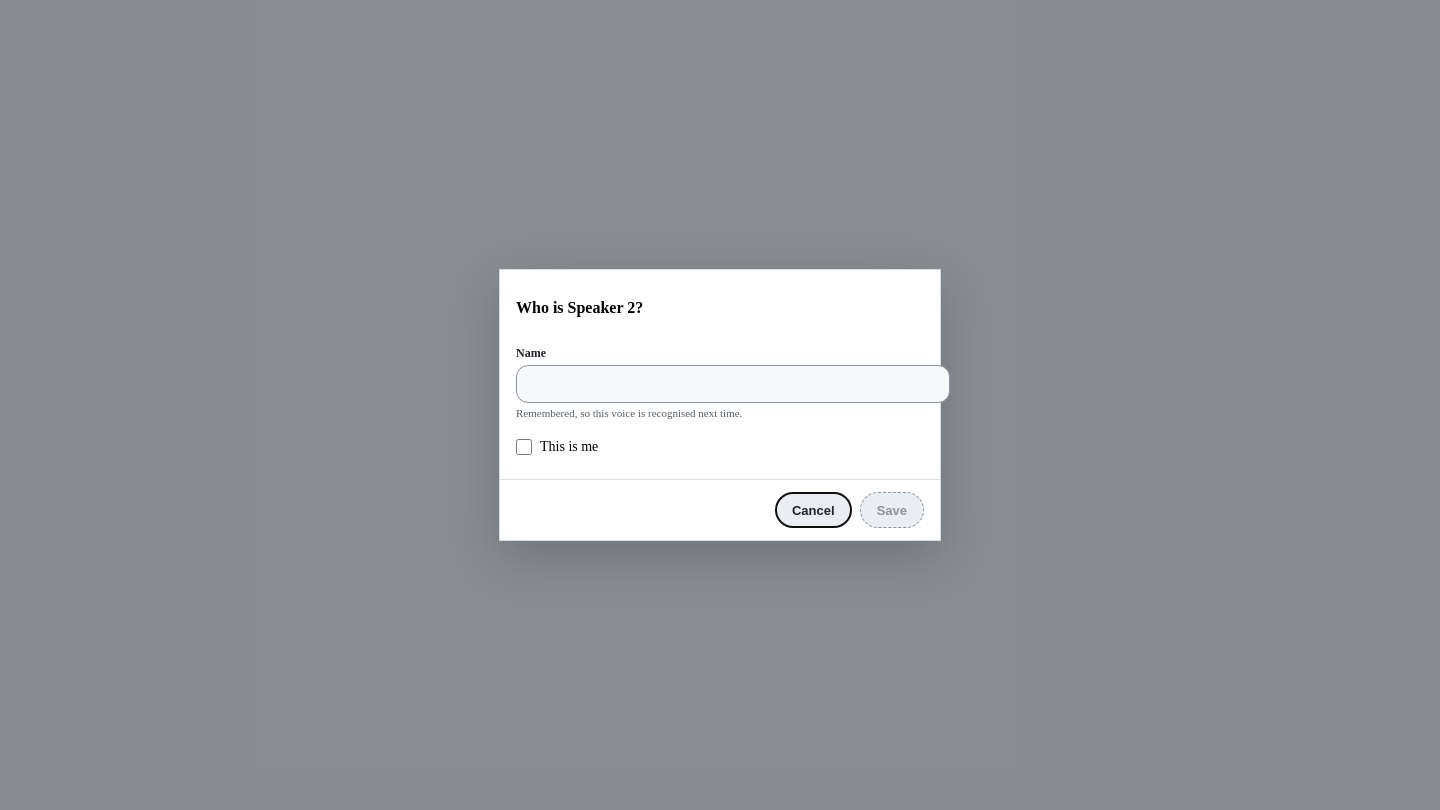
Test: NameSpeaker › stays open and says so when the server refuses
The width and height of the screenshot is (1440, 810).
Type "Dana" into the field with class "i-input" at (733,384), box [516,365,950,403]
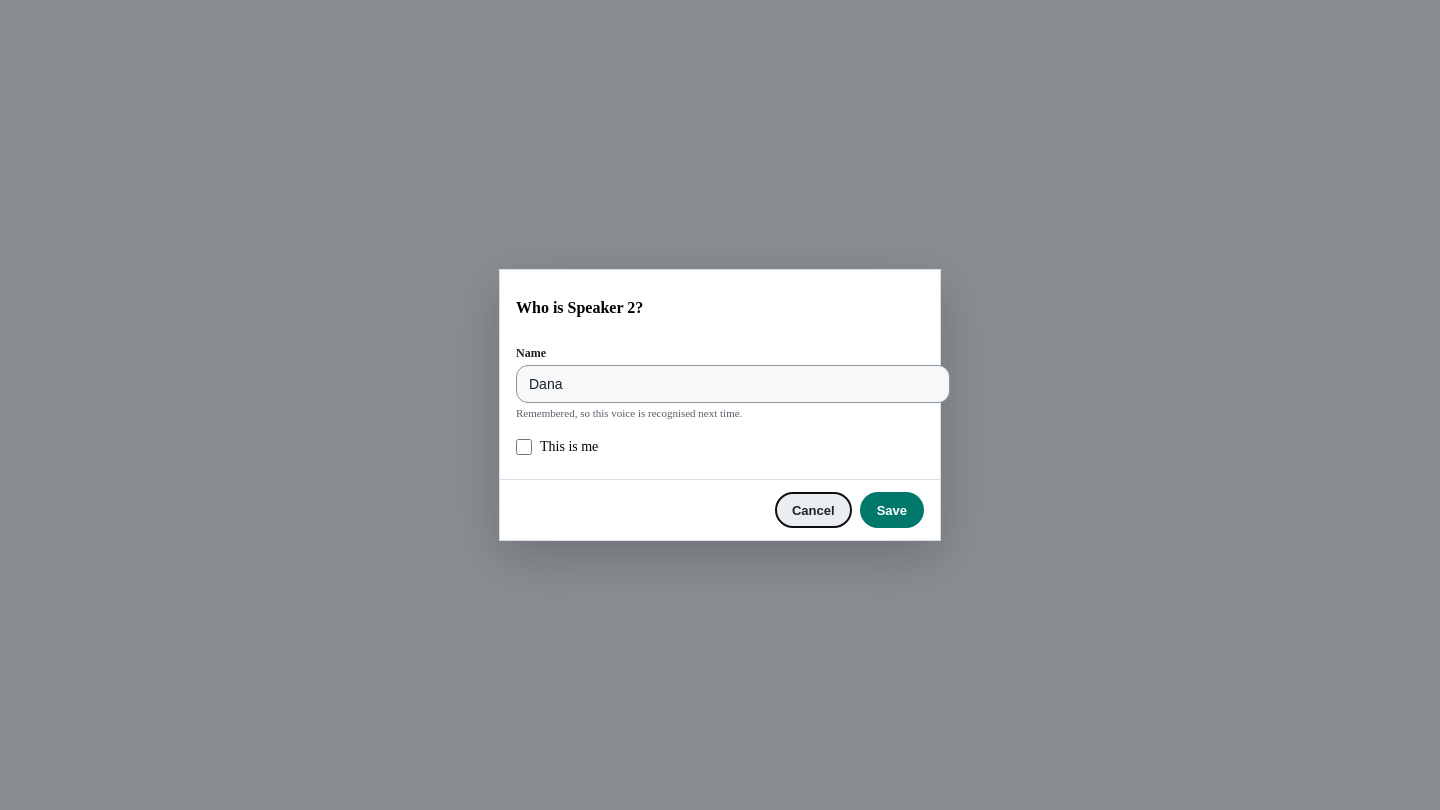
Click the button "Save" at (892,510), box [860,492,924,528]
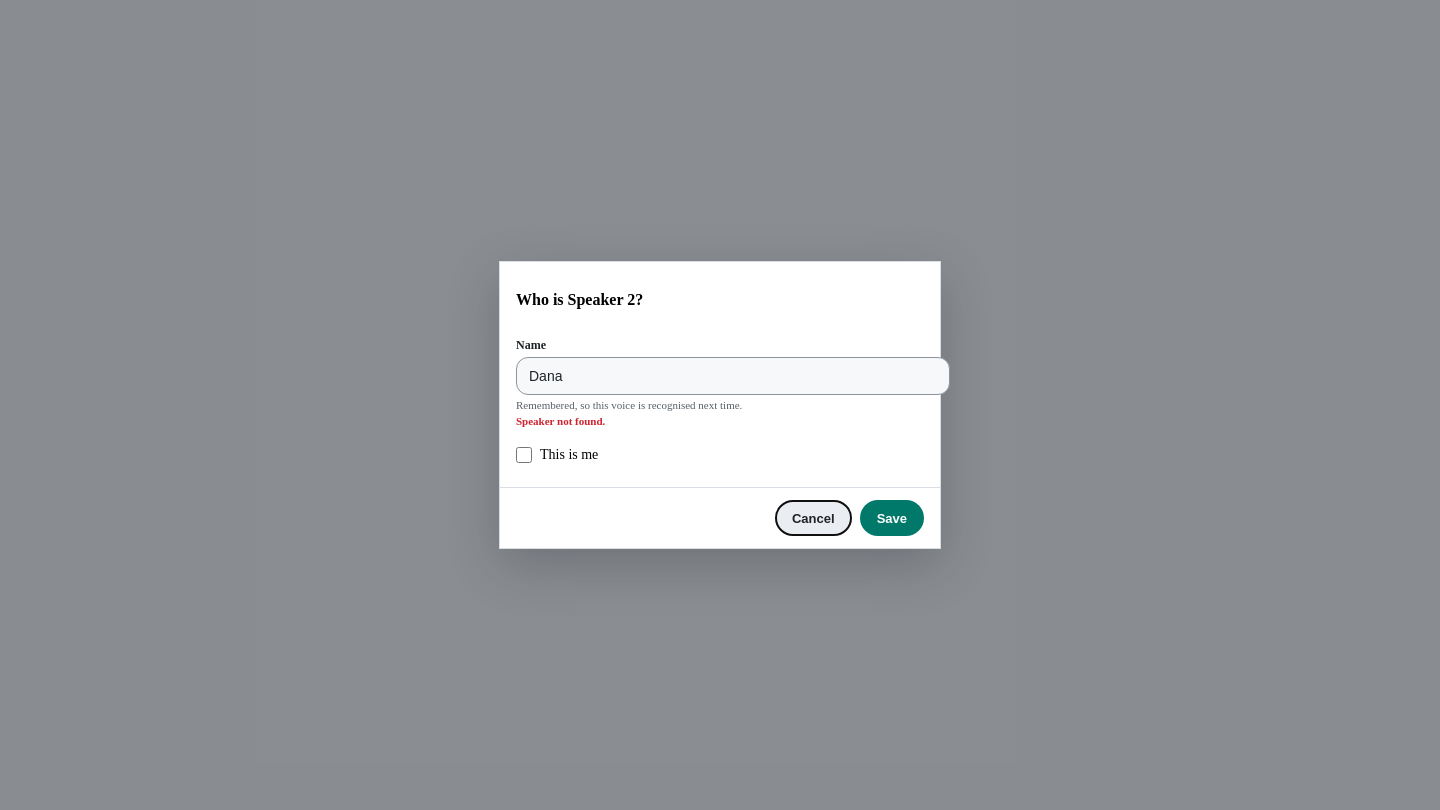
Expected: the message "Speaker not found." is shown, [516,415,605,427]
